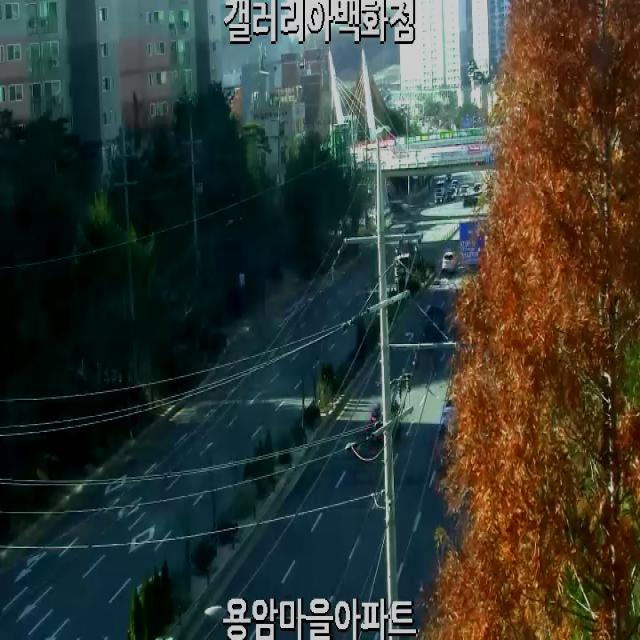Car: (440, 246, 460, 283)
